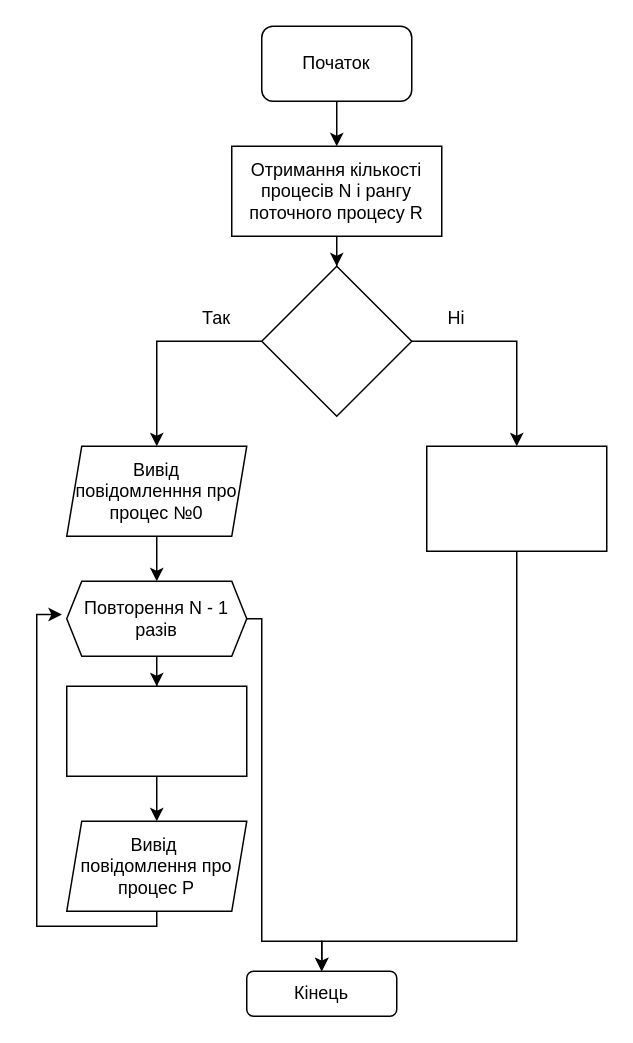
The diagram is 633 pixels wide and 1043 high, and some of its shapes have lost their labels. The centre of each missing label's shape, as x and y in pixels:
Відправлення повідомлення про поточний процес R процеесу №0: point (516, 498)
Отримання повідомлення від процесу P: point (156, 730)
Поточний процес є головним?: point (336, 340)
